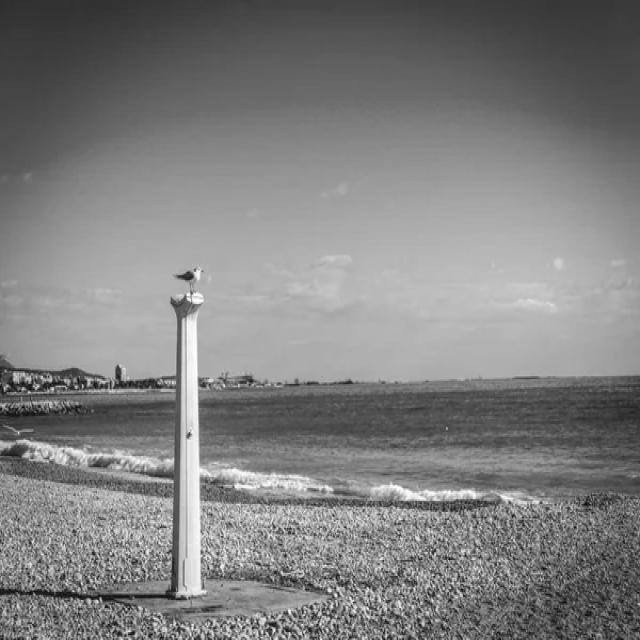Pole: (168, 267, 204, 599)
